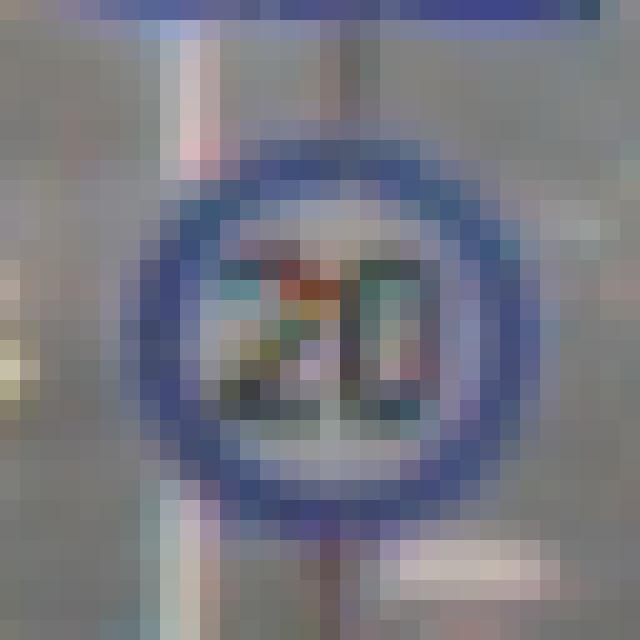SPEED LIMIT 20: (157, 151, 542, 534)
